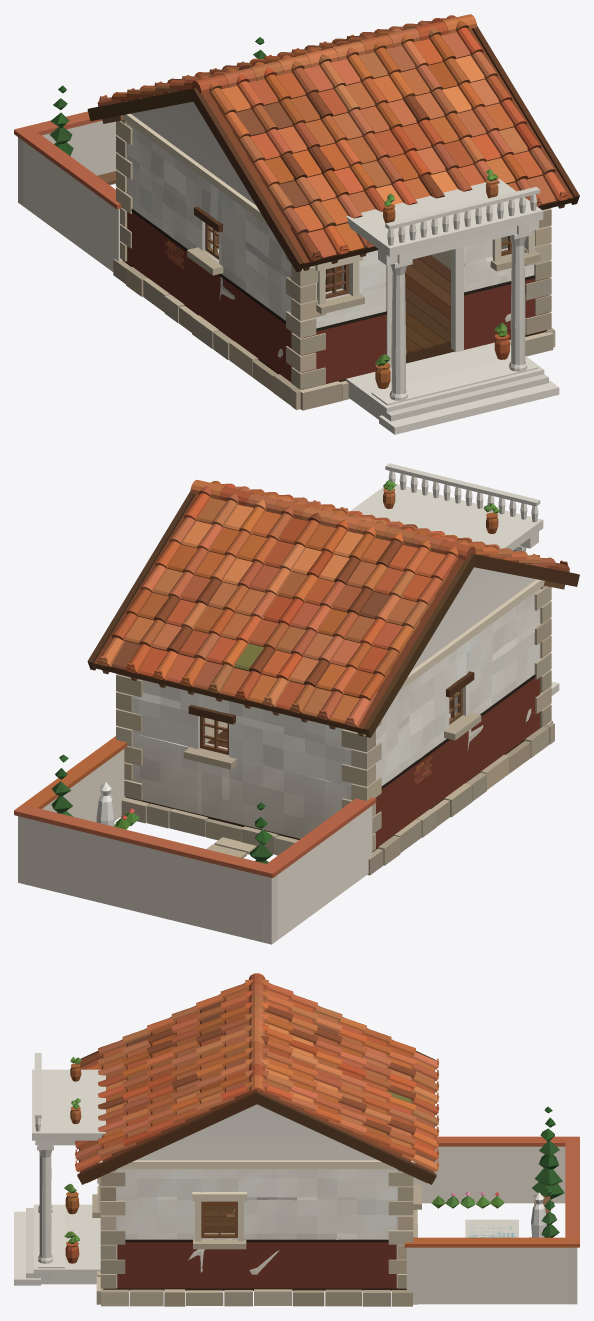
Rendered from patrician_1_1.glb.
3 views of the same model, one above another, from view 1: azimuth 30°, elevation 25°; view 2: azimuth 150°, elevation 25°; view 3: azimuth 270°, elevation 25° (orthographic). The views are drawn at different scales.
Parts seen in each view (by area): view 1: House, Walls, Rooms; view 2: House, Walls; view 3: House, Walls, Rooms.
Boxes of the visible parts, box(x1,y1,x2,y2) form: House: box(14, 14, 579, 434); Walls: box(126, 101, 547, 357); Rooms: box(217, 232, 507, 354); House: box(14, 463, 579, 944); Walls: box(120, 567, 541, 838); House: box(14, 973, 579, 1306); Walls: box(103, 1104, 410, 1288); Rooms: box(204, 1201, 234, 1233).
Bounding box in the file's own units: 4.09 × 3.66 × 8.43.
Materials: 3 (3 with a texture image).
